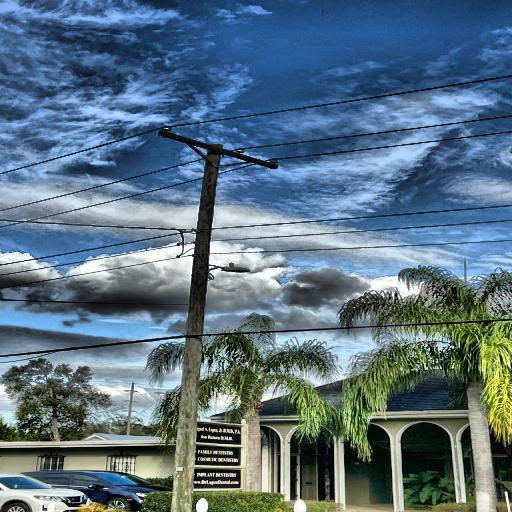pole: (164, 143, 227, 512)
